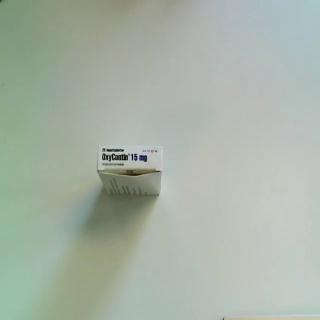oxycontin15mg: (96, 143, 164, 200)
